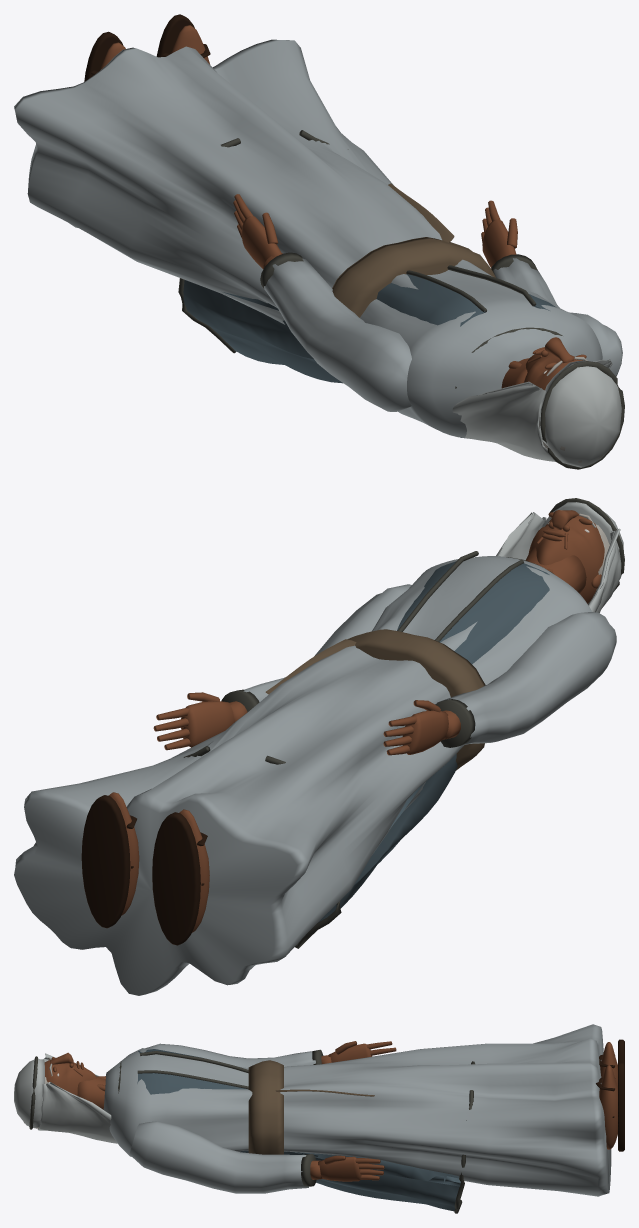
The model's file is SM_V3_Pilgrim_Woman_Elder.obj.
The picture shows the model from 3 angles, top to bottom: view 1: azimuth 30°, elevation 25°; view 2: azimuth 150°, elevation 25°; view 3: azimuth 270°, elevation 25°; orthographic projection. The views are drawn at different scales.
Visible parts, largest first — view 1: Tunic, SleeveR, Mantle, HeadCap, Sash, HeadCloth, SleeveL, HeadBand, PalmR, PalmL, Head, SandalSoleR (+2 smaller); view 2: Tunic, SleeveR, Mantle, SandalSoleR, SandalSoleL, Sash, Head, HeadCloth, SleeveL, PalmL, PalmR, Neck (+4 smaller); view 3: Tunic, SleeveL, Mantle, Sash, HeadCloth, HeadCap, SleeveR, FootL, Head, PalmL, SandalSoleL, Neck (+7 smaller).
Part boxes in pixels (x1,y1,x2,y2): Tunic: [14, 39, 602, 438]; SleeveR: [264, 258, 411, 411]; Mantle: [183, 274, 556, 437]; HeadCap: [540, 361, 621, 467]; Sash: [332, 237, 495, 317]; HeadCloth: [452, 359, 612, 461]; SleeveL: [493, 258, 622, 376]; HeadBand: [540, 361, 624, 469]; PalmR: [241, 216, 281, 268]; PalmL: [482, 219, 516, 267]; Head: [524, 352, 582, 390]; SandalSoleR: [84, 31, 123, 81]; Tunic: [14, 556, 591, 995]; SleeveR: [437, 612, 616, 745]; Mantle: [318, 561, 549, 922]; SandalSoleR: [152, 812, 200, 945]; SandalSoleL: [81, 795, 130, 928]; Sash: [347, 629, 485, 770]; Head: [528, 513, 604, 603]; HeadCloth: [496, 512, 621, 612]; SleeveL: [243, 584, 411, 701]; PalmL: [181, 701, 233, 747]; PalmR: [402, 710, 448, 754]; Neck: [525, 547, 586, 593]; Tunic: [103, 1024, 611, 1196]; SleeveL: [129, 1121, 308, 1193]; Mantle: [137, 1049, 460, 1211]; Sash: [248, 1060, 283, 1154]; HeadCloth: [37, 1053, 117, 1143]; HeadCap: [14, 1059, 44, 1127]; SleeveR: [145, 1043, 315, 1068]; FootL: [599, 1065, 617, 1149]; Head: [44, 1060, 96, 1095]; PalmL: [318, 1156, 361, 1181]; SandalSoleL: [618, 1062, 624, 1151]; Neck: [77, 1076, 105, 1109].
Bounding box in the file's own units: 70.95 × 49.53 × 179.
